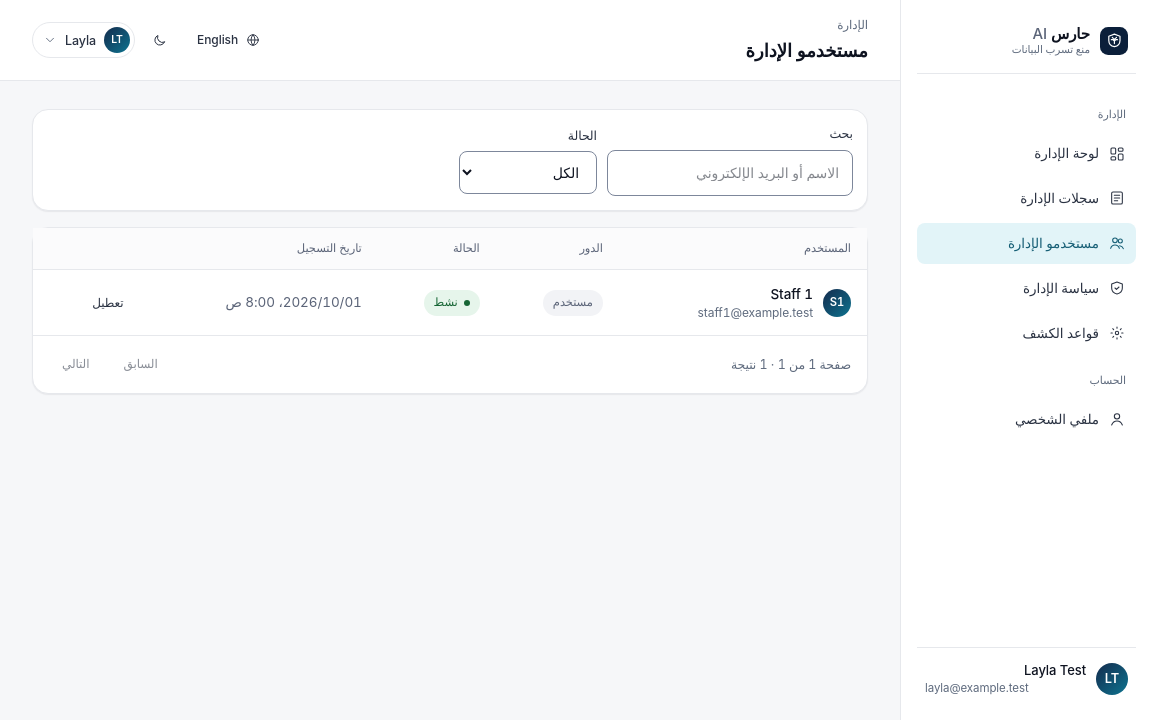
Scenario: department users › a server refusal is shown in the dialog and nothing changes
This screenshot has width=1152, height=720.
Click the button with aria-label "تعطيل حساب": [108, 303] box [79,286,137,319]
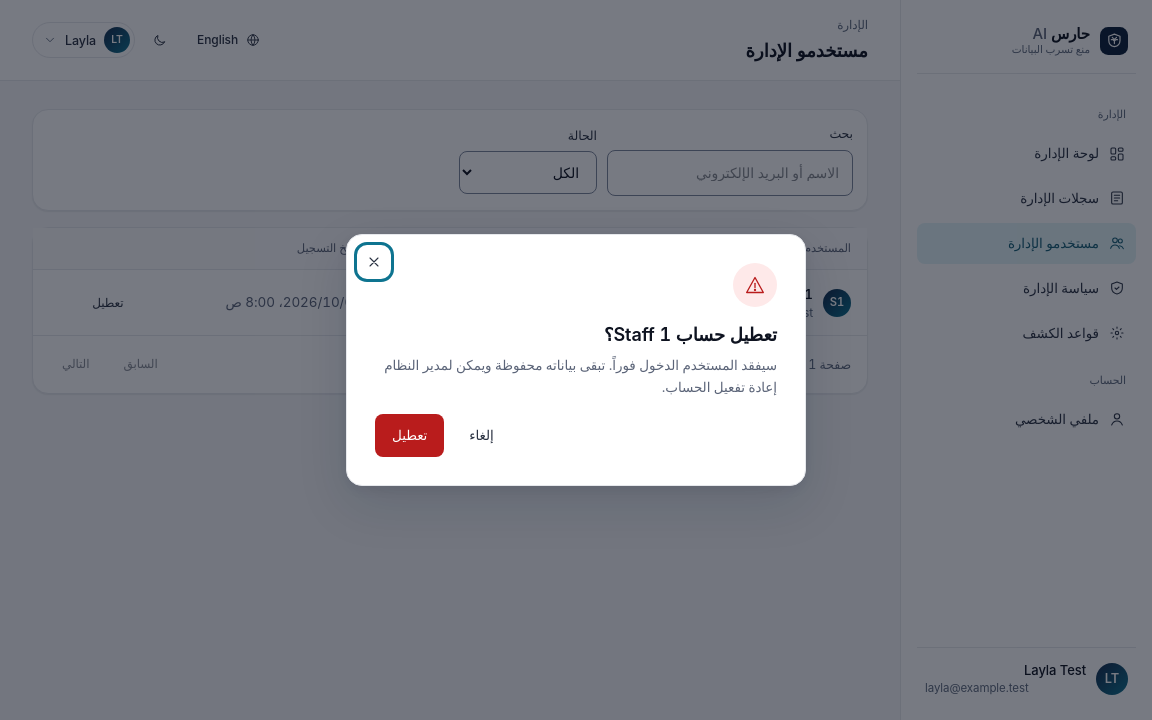
Click the button "تعطيل": [410, 436] box [375,414,444,457]
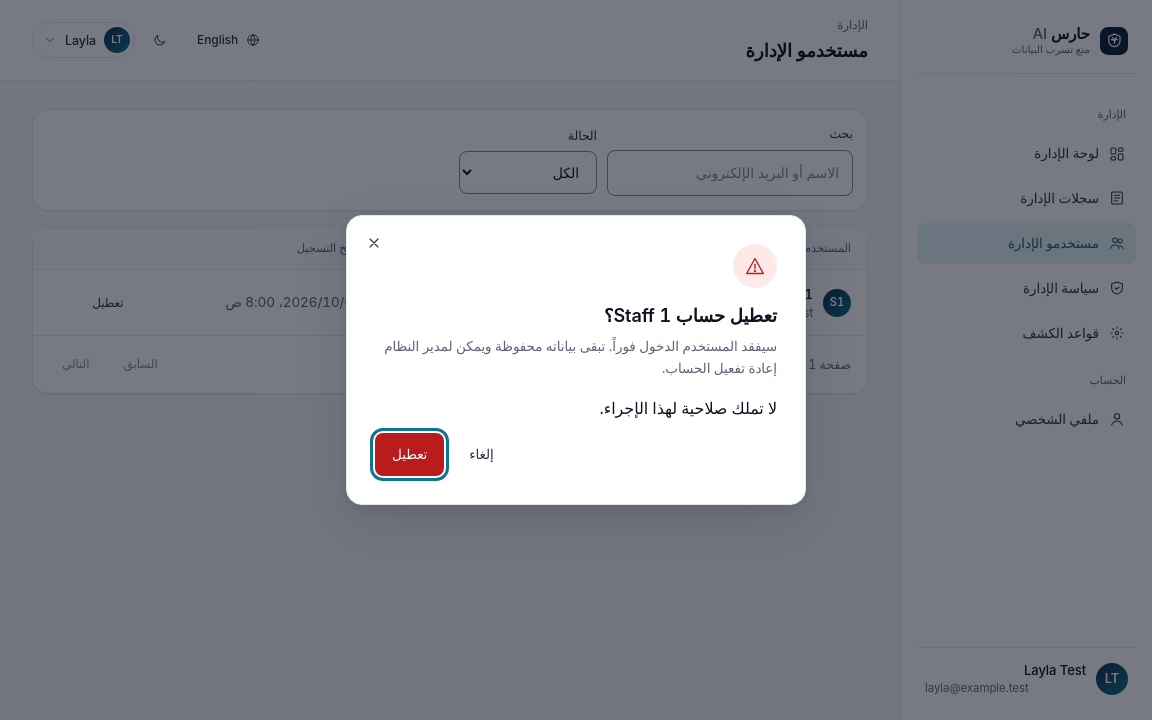
Result: the dialog is shown at [346,215,806,505]
Result: the message "لا تملك صلاحية لهذا الإجراء." is shown at [600,398,777,418]
